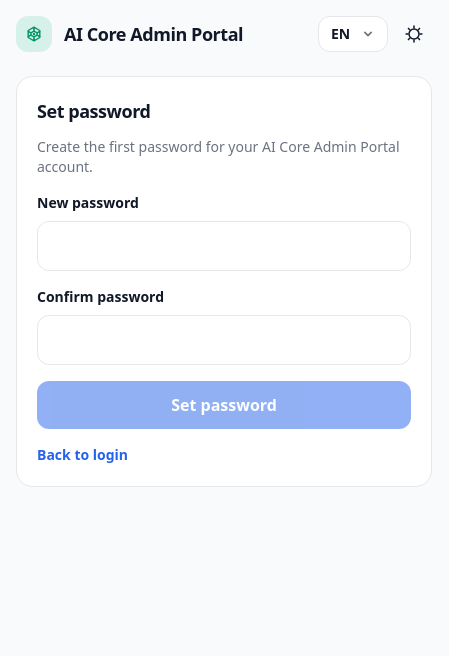
Test case: PasswordAccessPages › confirms first password setup with token from query params
Type "StrongPassword123!" into the password field labelled "New password" at point(224, 246), box [37,221,411,271]
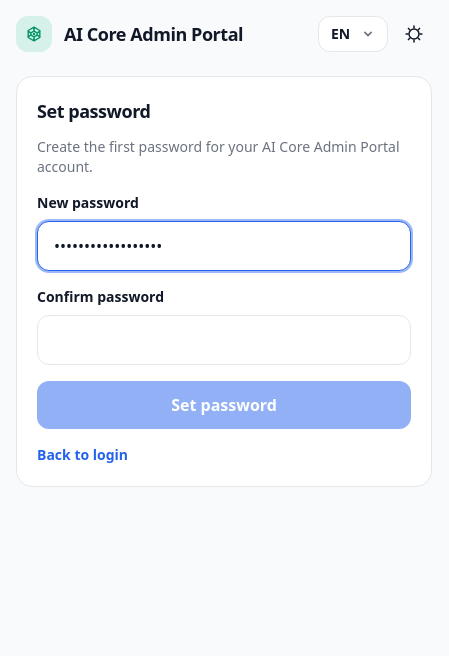
Type "StrongPassword123!" into the password field labelled "Confirm password" at point(224, 340), box [37,315,411,365]
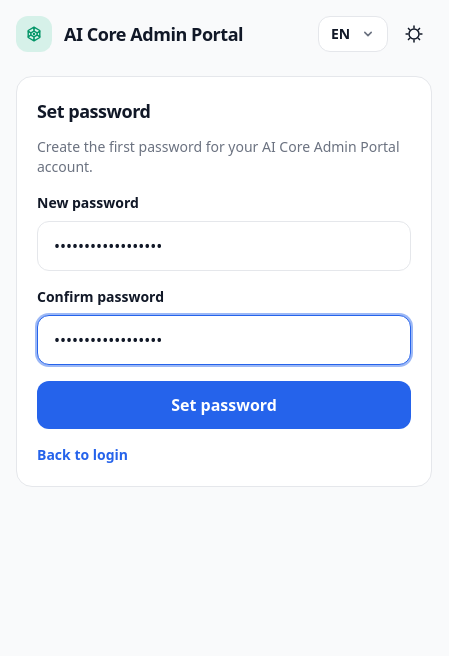
Click the button "Set password" at point(224, 405), box [37,381,411,429]
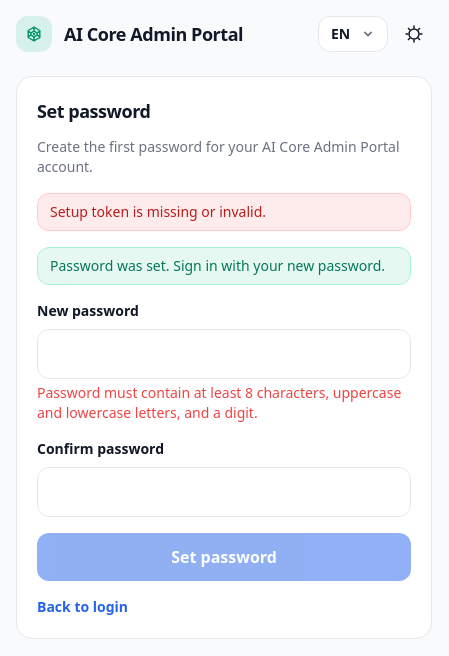
Expected: the text "Password was set. Sign in with your new password." is shown, [37,247,411,285]
